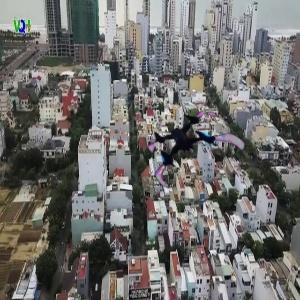drone: (141, 102, 235, 196)
